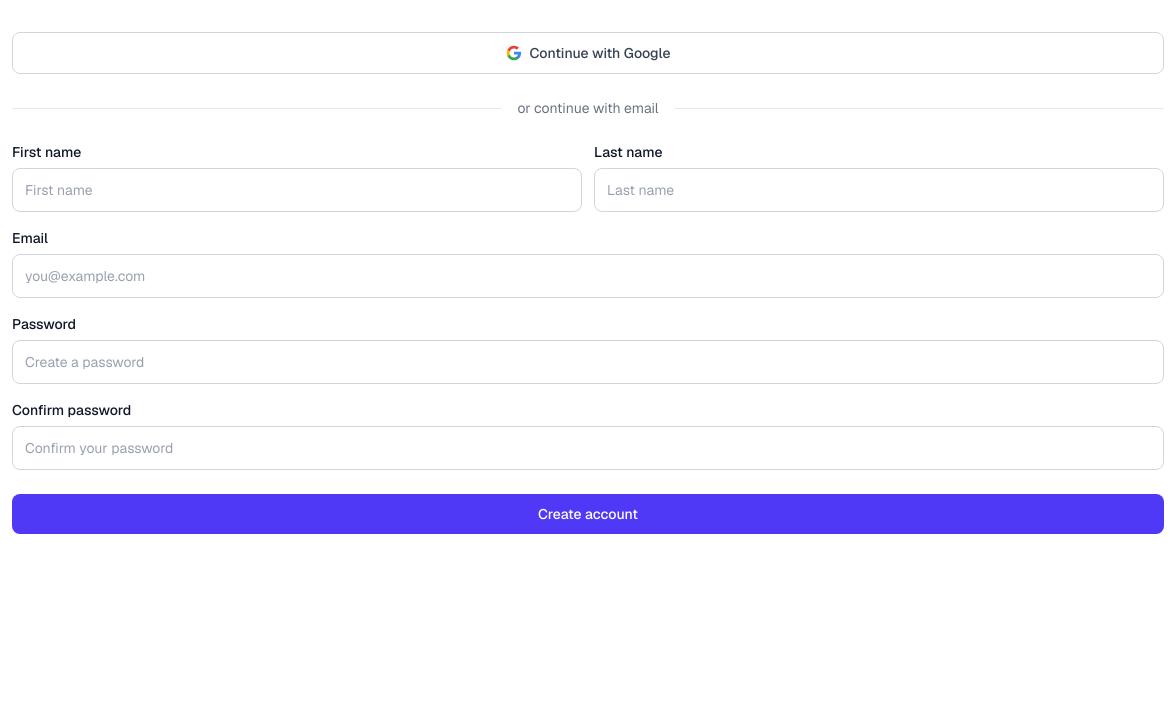
Test: SignUpForm component › shows validation error for missing first name
Type "Doe" into the field labelled "Last name".
click(879, 190); type("Doe")  # box [594,168,1164,212]
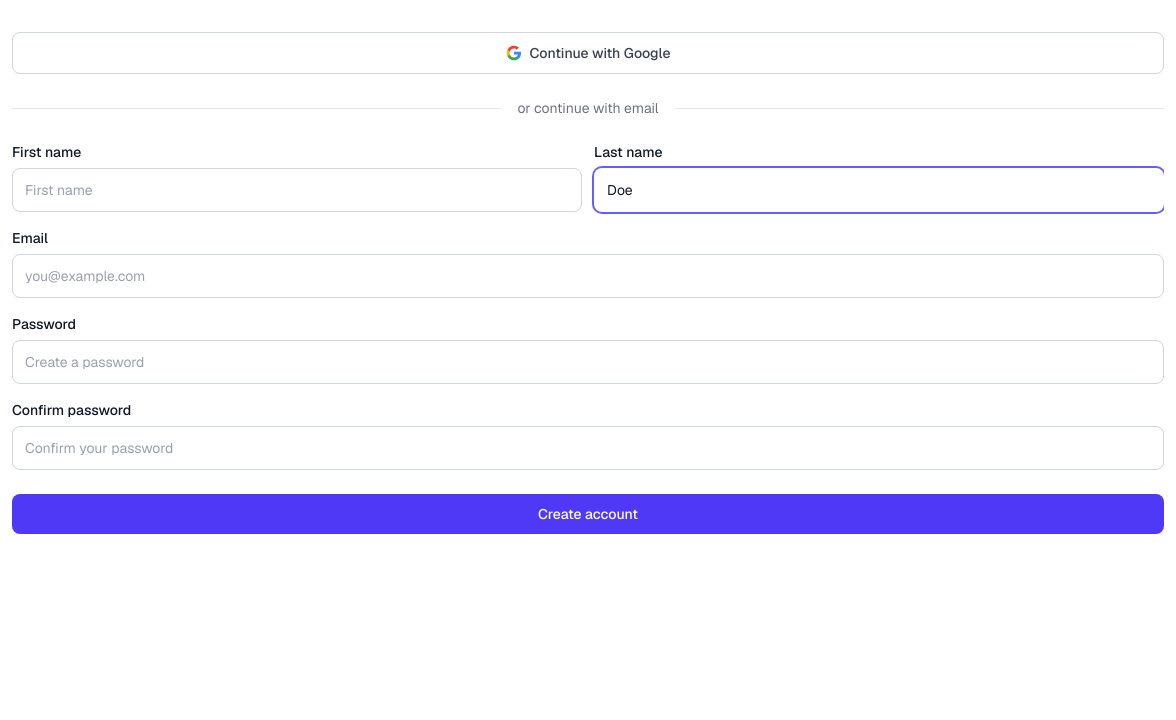
Type "test@example.com" into the field labelled "Email".
click(588, 276); type("test@example.com")  # box [12,254,1164,298]
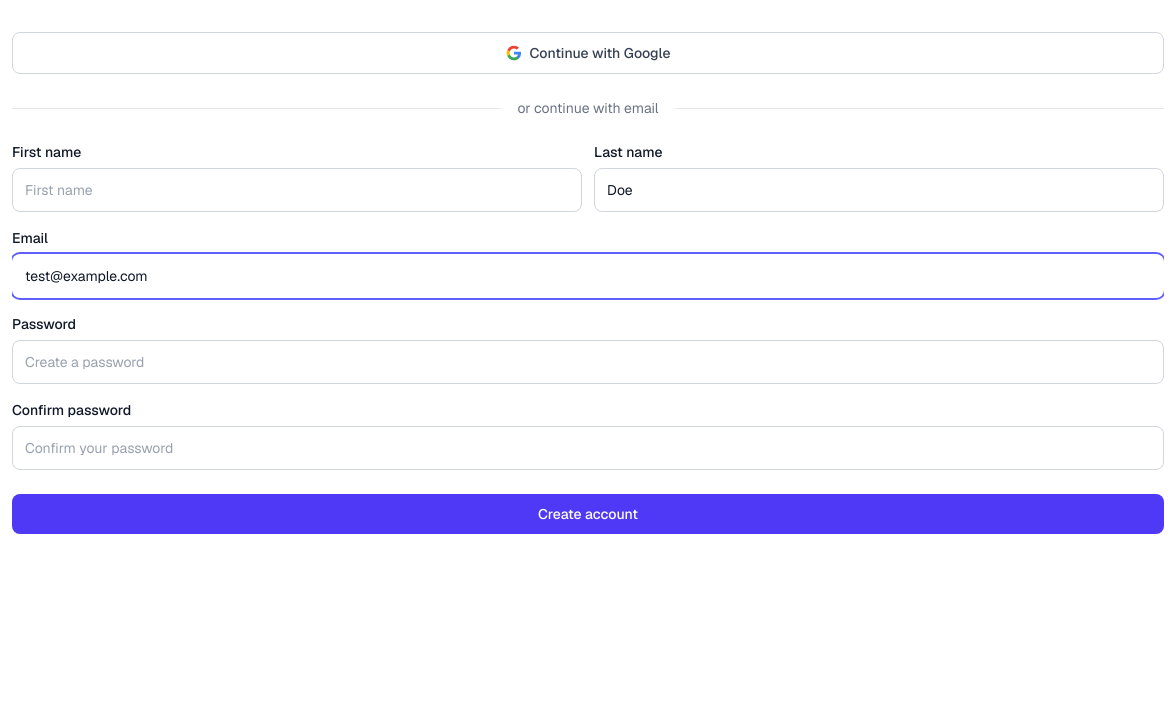
Type "Password123" into the password field labelled "Password".
click(588, 362); type("Password123")  # box [12,340,1164,384]
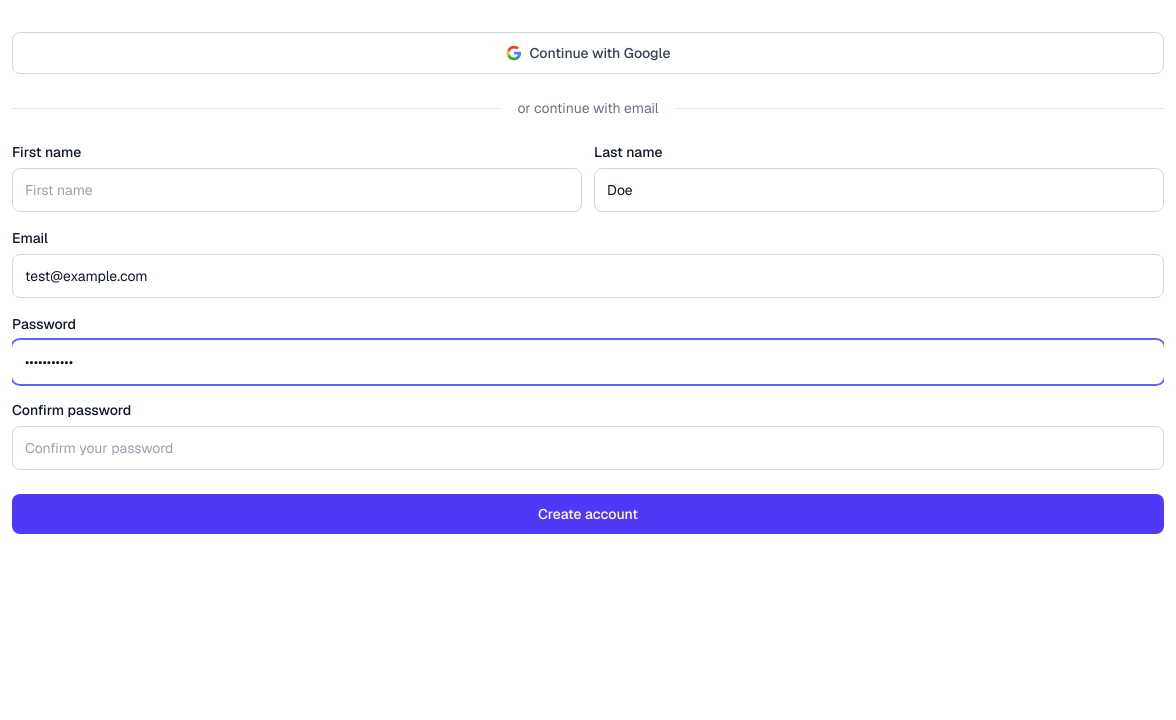
Type "Password123" into the password field labelled "Confirm password".
click(588, 448); type("Password123")  # box [12,426,1164,470]
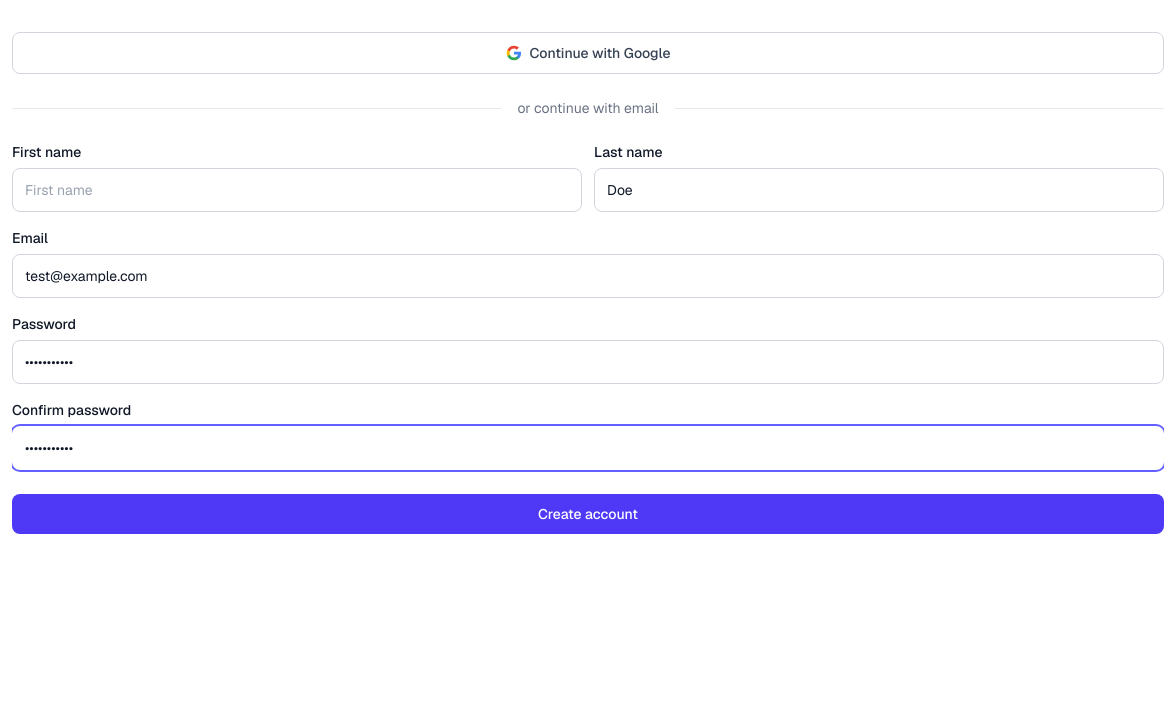
Click the button "Create account".
click(588, 514)  # box [12,494,1164,534]
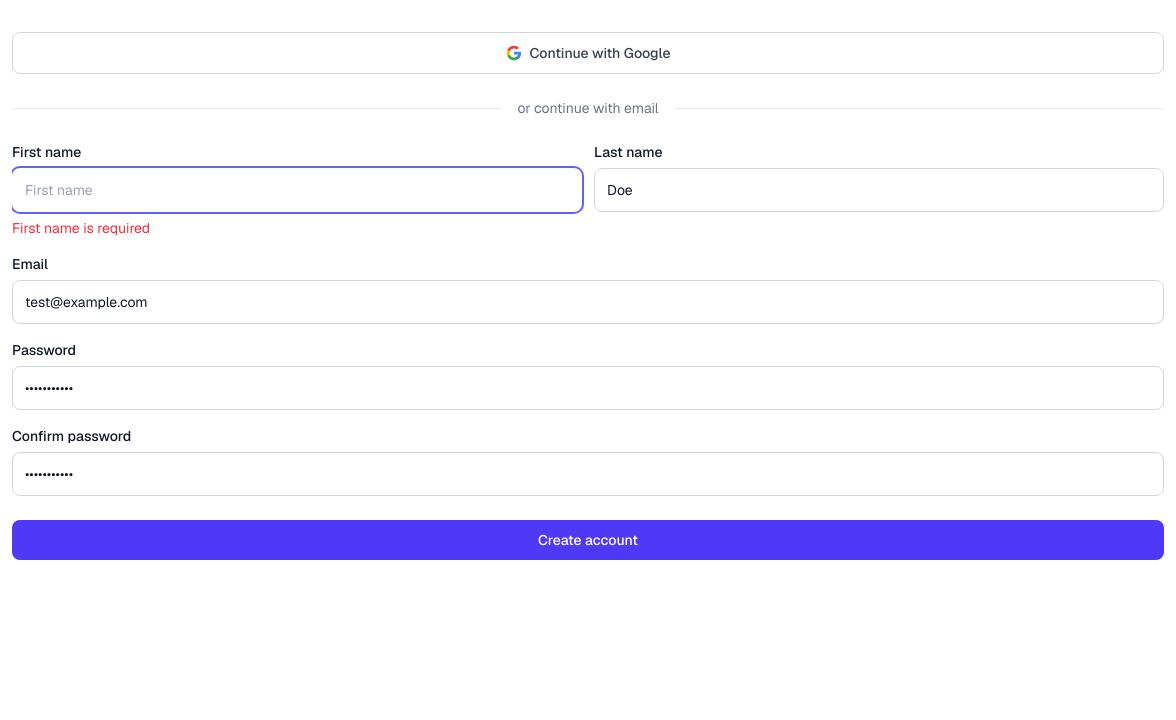
Expected: the text "First name is required" is shown, [12,219,150,237]
